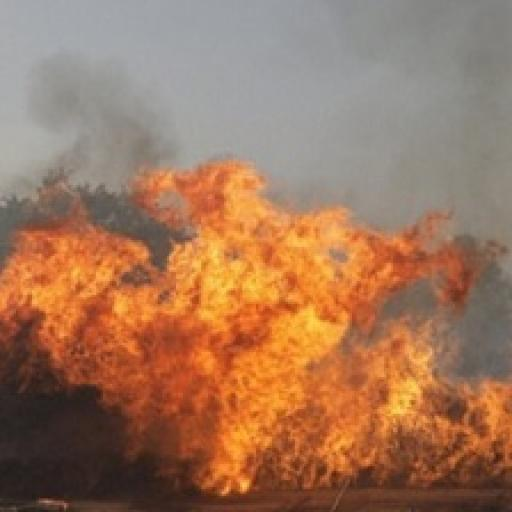fire and smoke: (0, 160, 511, 493)
